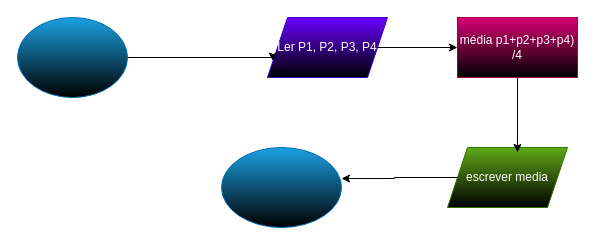
This 595x245 diagram has some shape labels left out. The shapes that lost their labels are listed below. From the top down, each one's centre as x and y in pixels, then its label:
point 72,57: inicio
point 281,187: fim
